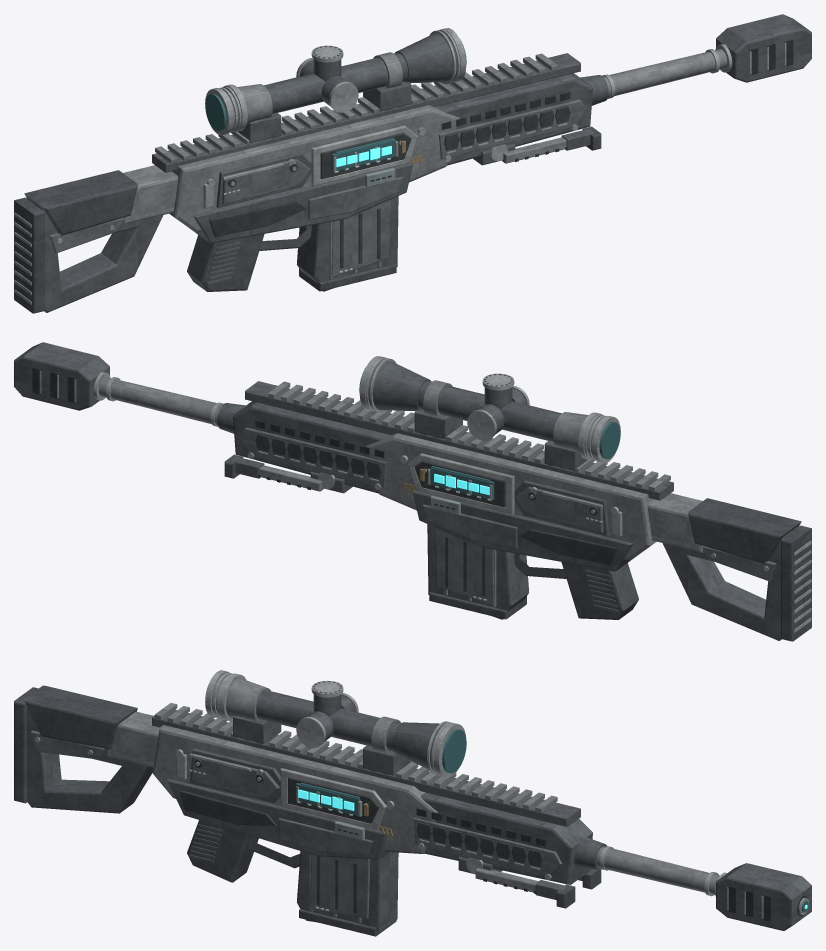
File: longpoint.glb
3 renders of one model, top to bottom at view 1: azimuth 30°, elevation 25°; view 2: azimuth 150°, elevation 25°; view 3: azimuth 330°, elevation 25°, orthographic.
Visible parts, largest first — view 1: Body, FrontShroud, Optic, MagazineShell, Core, SupportLeft; view 2: Body, FrontShroud, Optic, MagazineShell, Core, SupportRight; view 3: Body, FrontShroud, Optic, MagazineShell, Core, SupportLeft.
Part boxes in pixels (bbox=[...]): Body: bbox=[14, 53, 580, 313]; FrontShroud: bbox=[436, 14, 811, 165]; Optic: bbox=[205, 28, 466, 143]; MagazineShell: bbox=[297, 196, 398, 291]; Core: bbox=[311, 125, 417, 186]; SupportLeft: bbox=[491, 126, 601, 163]; Body: bbox=[245, 381, 811, 641]; FrontShroud: bbox=[14, 342, 389, 493]; Optic: bbox=[359, 356, 620, 471]; MagazineShell: bbox=[427, 524, 528, 619]; Core: bbox=[408, 453, 514, 514]; SupportRight: bbox=[224, 454, 334, 491]; Body: bbox=[14, 685, 580, 882]; FrontShroud: bbox=[413, 792, 811, 930]; Optic: bbox=[205, 670, 466, 777]; MagazineShell: bbox=[297, 851, 398, 936]; Core: bbox=[280, 768, 386, 830]; SupportLeft: bbox=[466, 857, 575, 908].
Size of the model in its own units: 2.47 by 0.6944 by 0.211.
12 materials, 9 textured.
